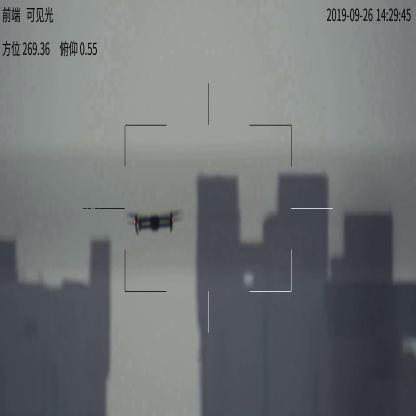uav: (122, 210, 186, 236)
